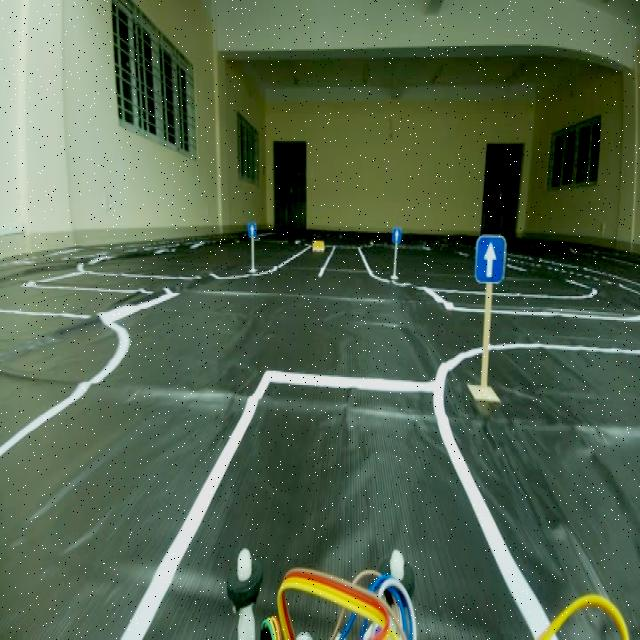onewayroad: (472, 226, 510, 288), (245, 217, 258, 238), (390, 222, 402, 242)
roadblock: (311, 236, 330, 258)
